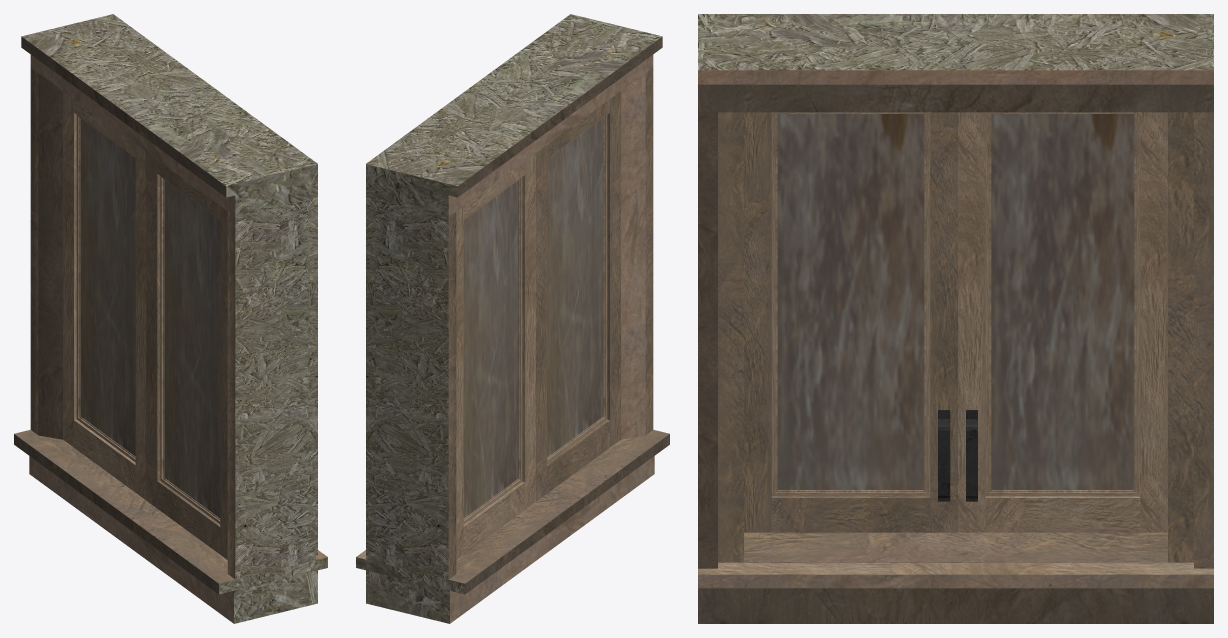
File: WindowFrameKitchen.fbx
3 renders of one model, left to right at view 1: azimuth 30°, elevation 25°; view 2: azimuth 150°, elevation 25°; view 3: azimuth 270°, elevation 25°, orthographic. The views are drawn at different scales.
Parts seen in each view (by area): view 1: WindowFrameKitchen, WIndowFrameKitchen_Right, WindowFrameKitchen_Left; view 2: WindowFrameKitchen, WindowFrameKitchen_Left, WIndowFrameKitchen_Right; view 3: WindowFrameKitchen, WindowFrameKitchen_Left, WIndowFrameKitchen_Right.
Boxes of the visible parts, x1,y1,x2,y2 form: WindowFrameKitchen: (14, 14, 327, 623); WIndowFrameKitchen_Right: (63, 91, 146, 499); WindowFrameKitchen_Left: (146, 152, 227, 559); WindowFrameKitchen: (356, 14, 669, 623); WindowFrameKitchen_Left: (536, 91, 620, 501); WIndowFrameKitchen_Right: (456, 153, 535, 559); WindowFrameKitchen: (698, 14, 1213, 623); WindowFrameKitchen_Left: (744, 112, 957, 532); WIndowFrameKitchen_Right: (958, 112, 1167, 532).
Bounding box in the file's own units: 37.02 × 142 × 120.
